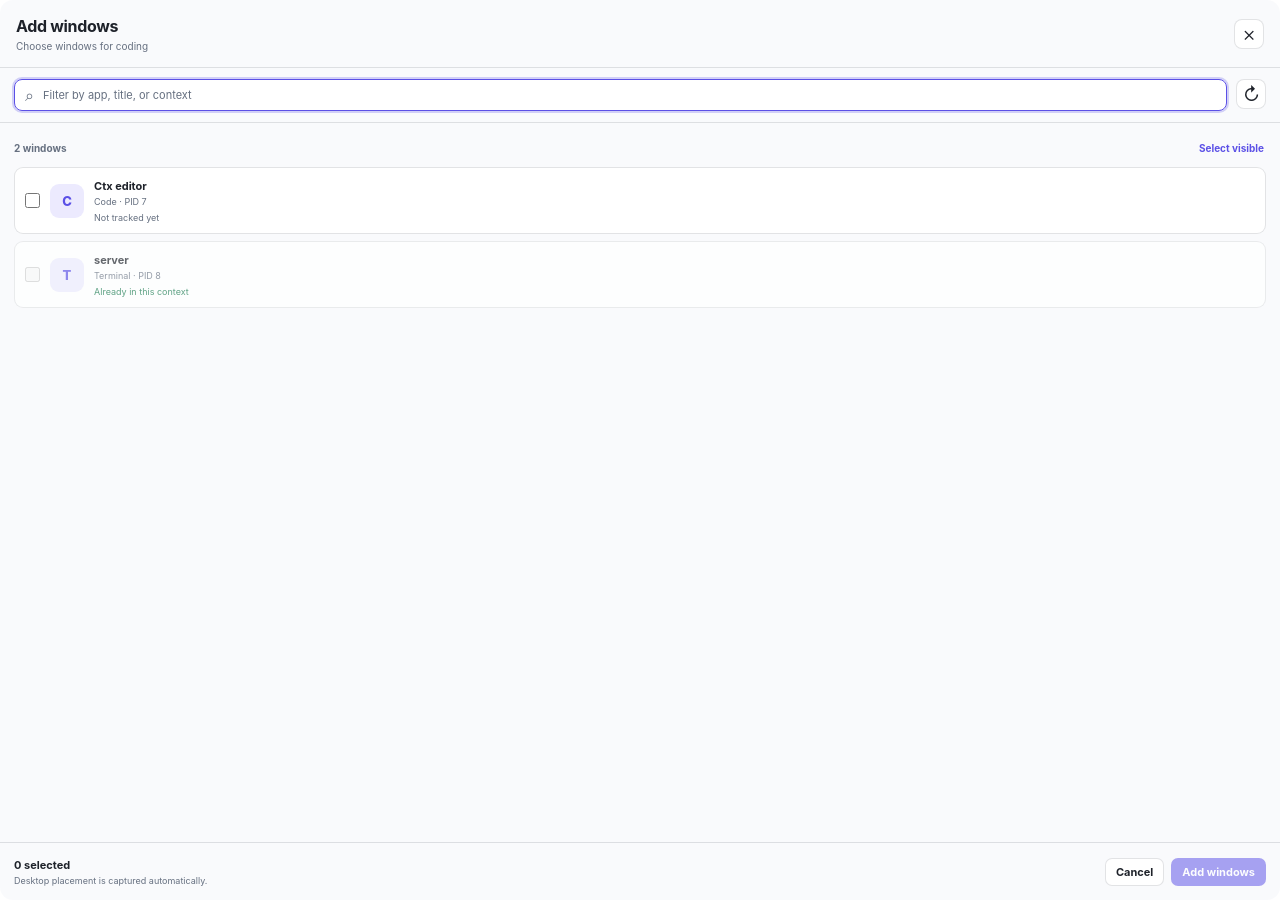
Test: Ctx window picker › filters candidates by application and title
The image size is (1280, 900).
Check: the text "Ctx editor" is shown, box [94,178,147,192]
Type "terminal" into the search field named "Filter windows". click: (628, 95)
box: [41,87,1216,103]
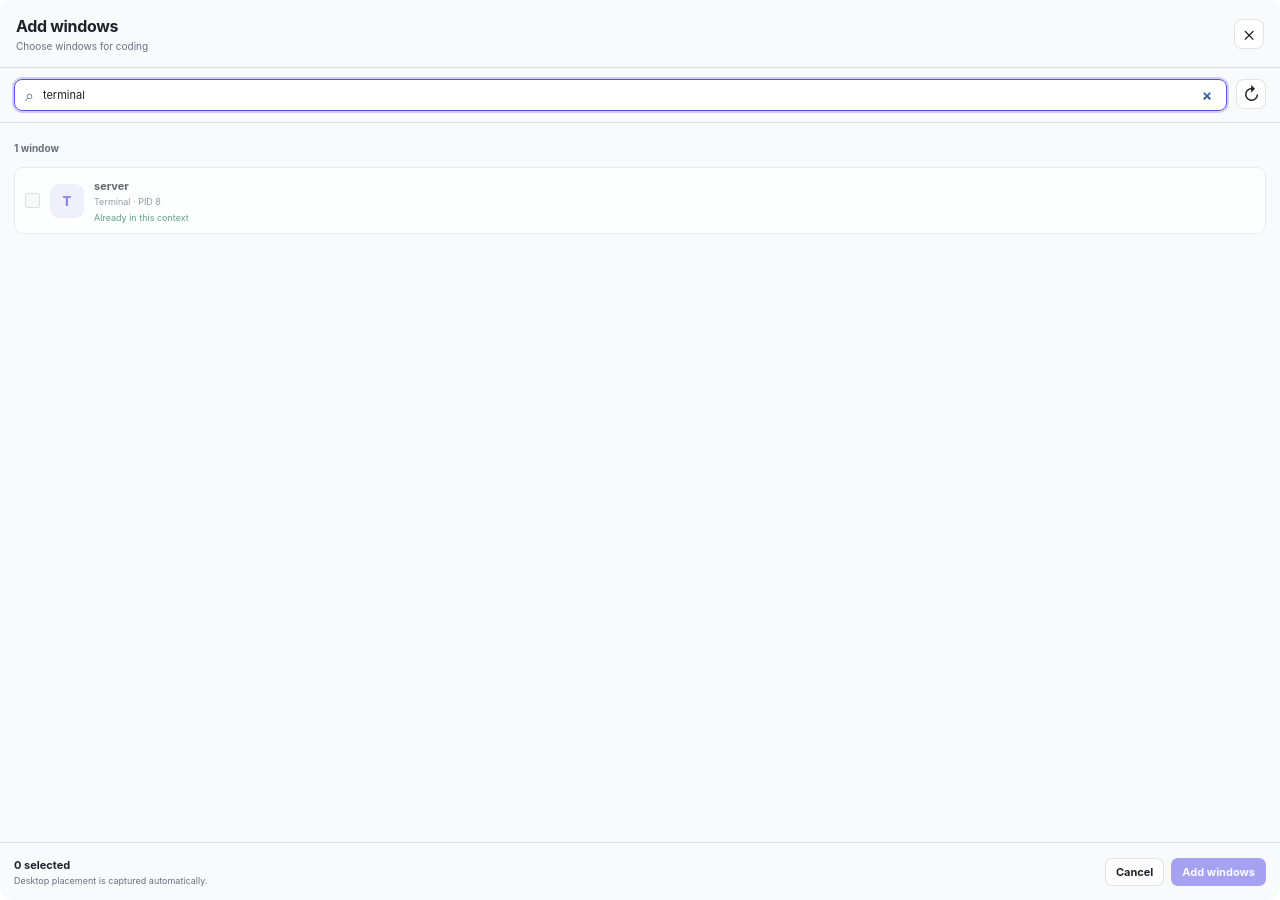
Check: the text "server" is shown, box [94,178,129,192]
Check: the text "Ctx editor" is gone
